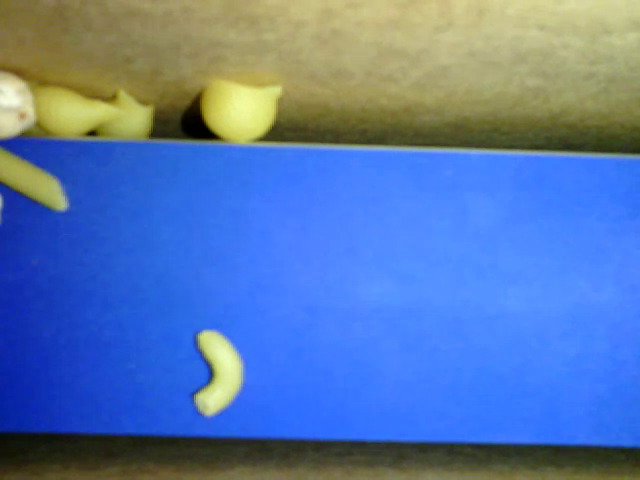elbow: (190, 328, 245, 416)
penne: (1, 147, 73, 215)
shell: (25, 82, 128, 139), (199, 76, 282, 143), (90, 86, 156, 141)
